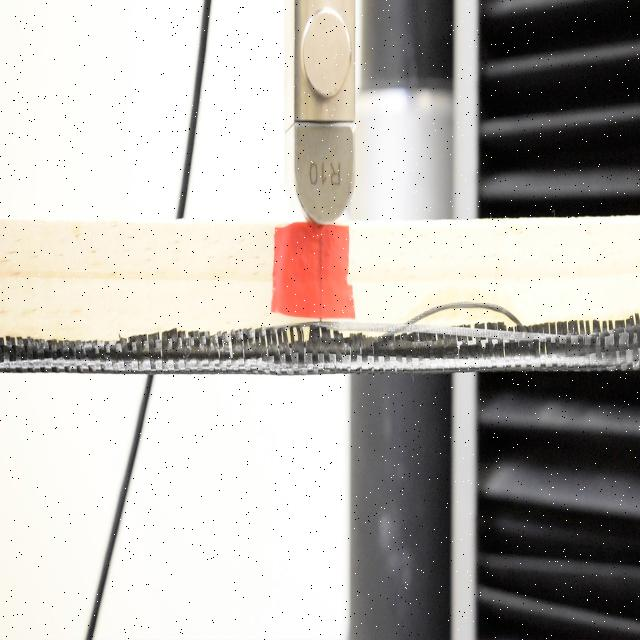wood: (0, 220, 639, 370)
